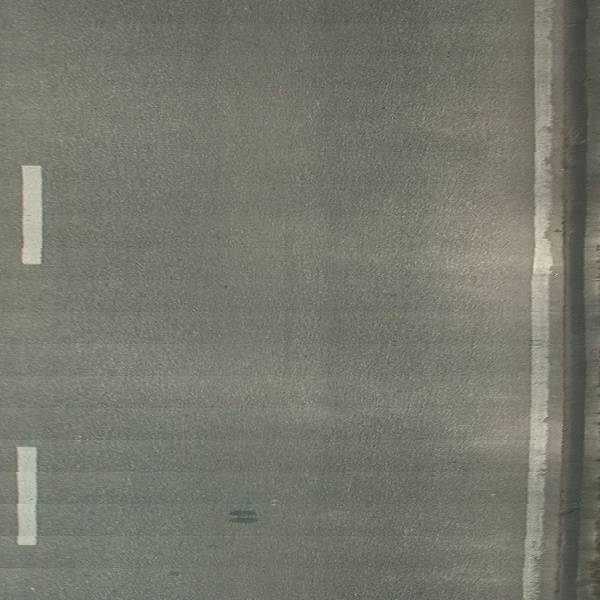road_damage: (224, 506, 263, 528)
